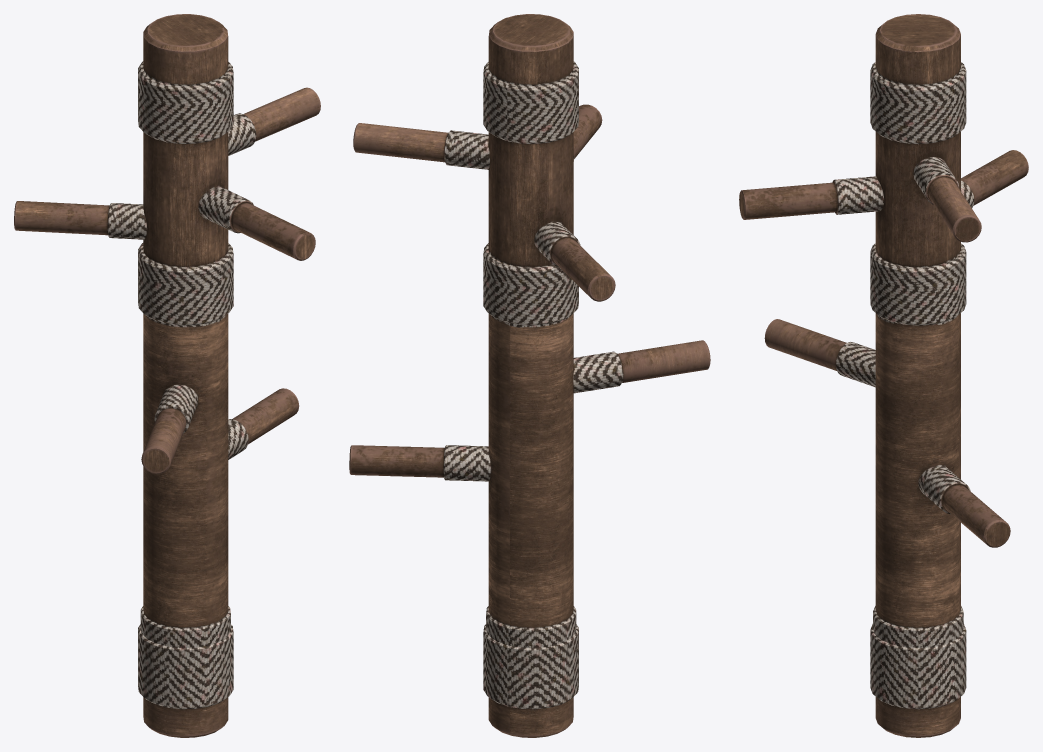
The model's file is training_dummy.fbx.
3 renders of one model, left to right at view 1: azimuth 30°, elevation 25°; view 2: azimuth 150°, elevation 25°; view 3: azimuth 270°, elevation 25°, orthographic.
Visible parts, largest first — view 1: defaultMaterial.005, defaultMaterial, defaultMaterial.001, defaultMaterial.002, defaultMaterial.004, defaultMaterial.003; view 2: defaultMaterial.005, defaultMaterial.003, defaultMaterial.004, defaultMaterial.002, defaultMaterial, defaultMaterial.001; view 3: defaultMaterial.005, defaultMaterial.001, defaultMaterial.004, defaultMaterial.003, defaultMaterial.002, defaultMaterial.
Part boxes in pixels (x1,y1,x2,y2): defaultMaterial.005: (138, 14, 233, 737); defaultMaterial: (14, 201, 147, 239); defaultMaterial.001: (198, 186, 315, 260); defaultMaterial.002: (228, 87, 320, 155); defaultMaterial.004: (141, 384, 198, 473); defaultMaterial.003: (228, 388, 299, 459); defaultMaterial.005: (483, 14, 578, 737); defaultMaterial.003: (349, 445, 491, 481); defaultMaterial.004: (573, 340, 710, 393); defaultMaterial.002: (353, 123, 489, 169); defaultMaterial: (534, 221, 615, 301); defaultMaterial.001: (573, 104, 602, 161); defaultMaterial.005: (870, 14, 966, 737); defaultMaterial.001: (739, 176, 884, 219); defaultMaterial.004: (764, 319, 875, 387); defaultMaterial.003: (918, 465, 1010, 547); defaultMaterial.002: (913, 157, 981, 242); defaultMaterial: (961, 150, 1028, 207).
Size of the model in its own units: 179 by 420 by 160.
1 material, 1 textured.
